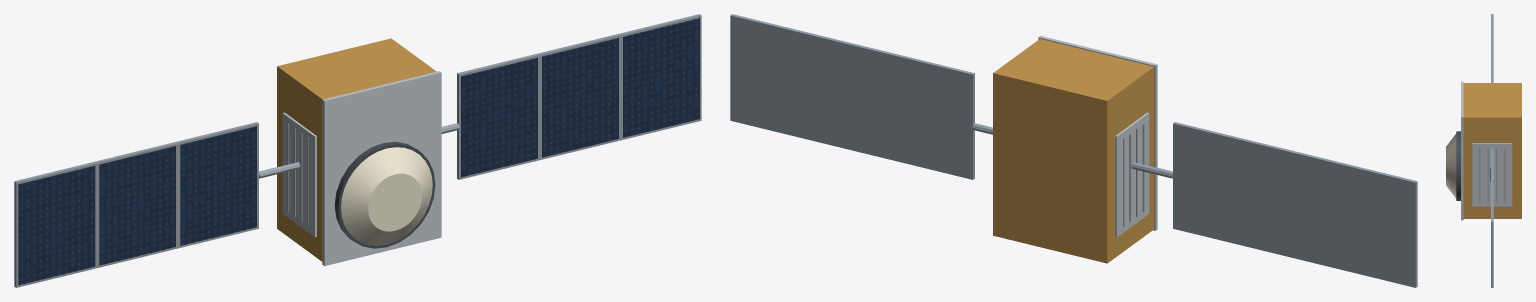
The model's file is gps-iii.glb.
3 views of the same model, side by side, from view 1: azimuth 30°, elevation 25°; view 2: azimuth 150°, elevation 25°; view 3: azimuth 270°, elevation 25° (orthographic). The views are drawn at different scales.
Parts seen in each view (by area): view 1: Photovoltaic laminates (×6), Payload deck, Equipment bus, Navigation antenna cover, Array frame (×6), Radiator, Navigation antenna base; view 2: Array frame (×6), Equipment bus, Radiator, Payload deck; view 3: Equipment bus, Radiator, Navigation antenna cover, Array frame (×5), Payload deck, Navigation antenna base, Radiator channel (×3).
Boxes of the visible parts, bbox=[...] form: Photovoltaic laminates (×6): bbox=[18, 18, 699, 285]; Payload deck: bbox=[322, 71, 441, 266]; Equipment bus: bbox=[277, 38, 436, 261]; Navigation antenna cover: bbox=[341, 147, 432, 245]; Array frame (×6): bbox=[14, 14, 701, 287]; Radiator: bbox=[282, 112, 316, 237]; Navigation antenna base: bbox=[334, 141, 435, 248]; Array frame (×6): bbox=[730, 14, 1417, 287]; Equipment bus: bbox=[993, 39, 1153, 263]; Radiator: bbox=[1115, 112, 1149, 237]; Payload deck: bbox=[1038, 35, 1157, 230]; Equipment bus: bbox=[1463, 83, 1521, 218]; Radiator: bbox=[1472, 143, 1512, 206]; Navigation antenna cover: bbox=[1446, 133, 1456, 198]; Array frame (×5): bbox=[1491, 14, 1493, 287]; Payload deck: bbox=[1461, 81, 1463, 220]; Navigation antenna base: bbox=[1456, 131, 1460, 200]; Radiator channel (×3): bbox=[1479, 147, 1505, 202].
Size of the model in its own units: 15 by 3.45 by 2.31.
6 materials, 1 textured.
